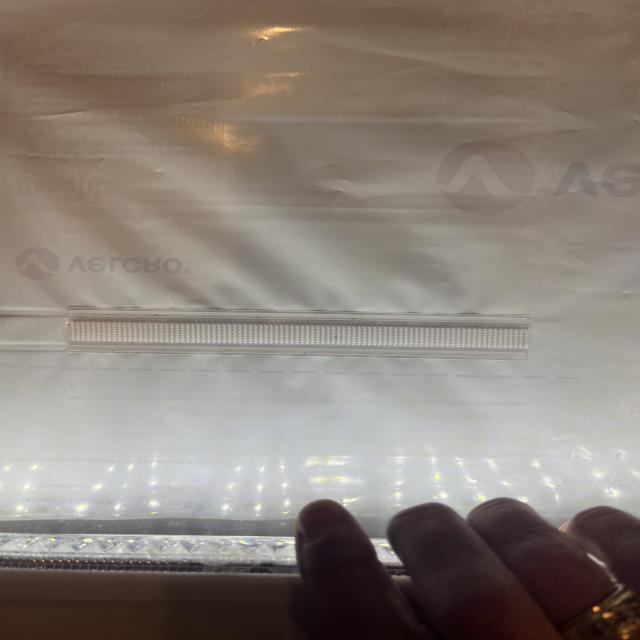zip_s: (66, 304, 532, 364)
